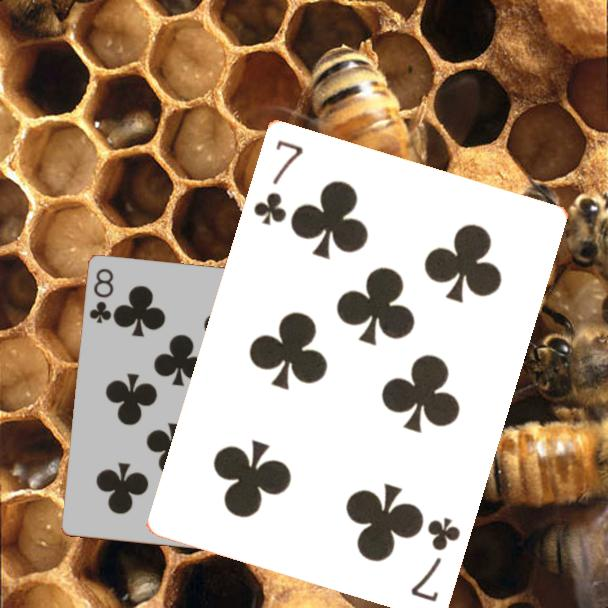c07: (249, 136, 306, 228), (407, 513, 463, 604)
c08: (86, 265, 117, 327)
